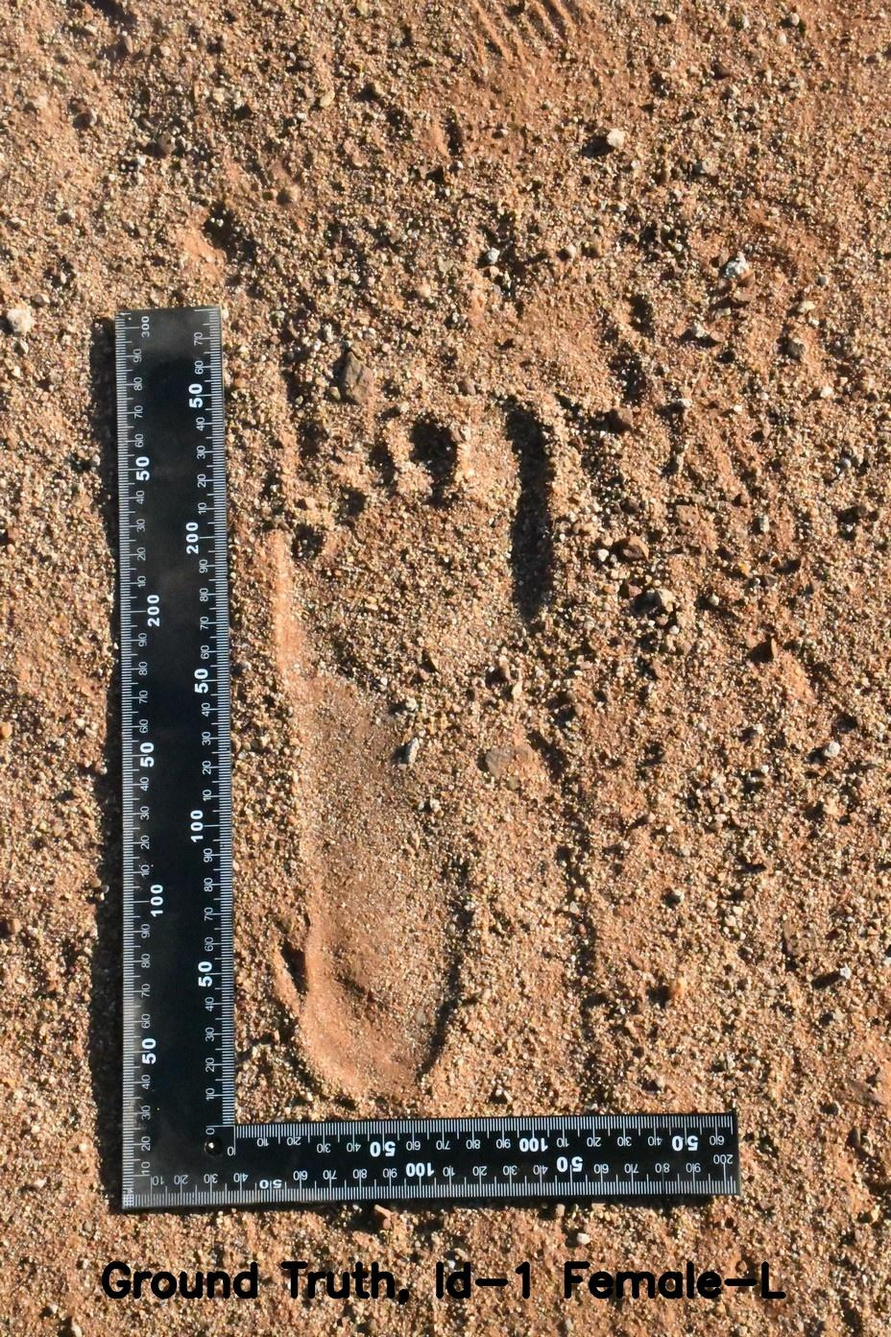human_foot_print: (244, 289, 666, 1104)
